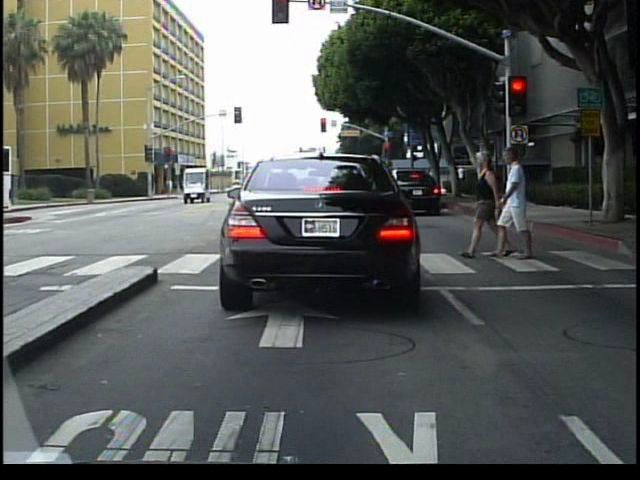person: (496, 139, 540, 262), (464, 147, 507, 260)
